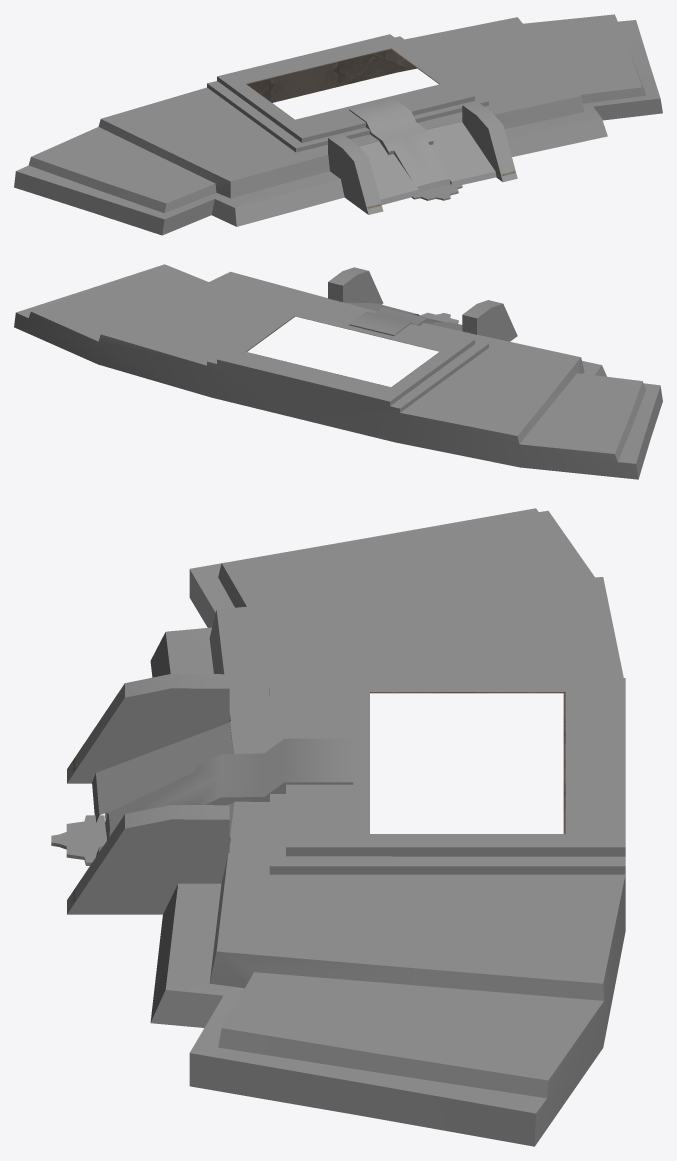
Rendered from fb_jjc_jz_02_a.FBX.
The picture shows the model from 3 angles, top to bottom: view 1: azimuth 30°, elevation 25°; view 2: azimuth 150°, elevation 25°; view 3: azimuth 270°, elevation 25°; orthographic projection. The views are drawn at different scales.
Visible parts, largest first — view 1: col_fb_jjc_jz_02_a, fb_jjc_jz_02_a; view 2: col_fb_jjc_jz_02_a, fb_jjc_jz_02_a; view 3: col_fb_jjc_jz_02_a, fb_jjc_jz_02_a.
Part boxes in pixels (x1=…): col_fb_jjc_jz_02_a: x1=14, y1=14, x2=662, y2=235; fb_jjc_jz_02_a: x1=246, y1=48, x2=515, y2=208; col_fb_jjc_jz_02_a: x1=14, y1=264, x2=662, y2=479; fb_jjc_jz_02_a: x1=246, y1=299, x2=469, y2=386; col_fb_jjc_jz_02_a: x1=51, y1=508, x2=625, y2=1146; fb_jjc_jz_02_a: x1=73, y1=692, x2=565, y2=903.
Size of the model in its own units: 3173 by 232 by 1263.
